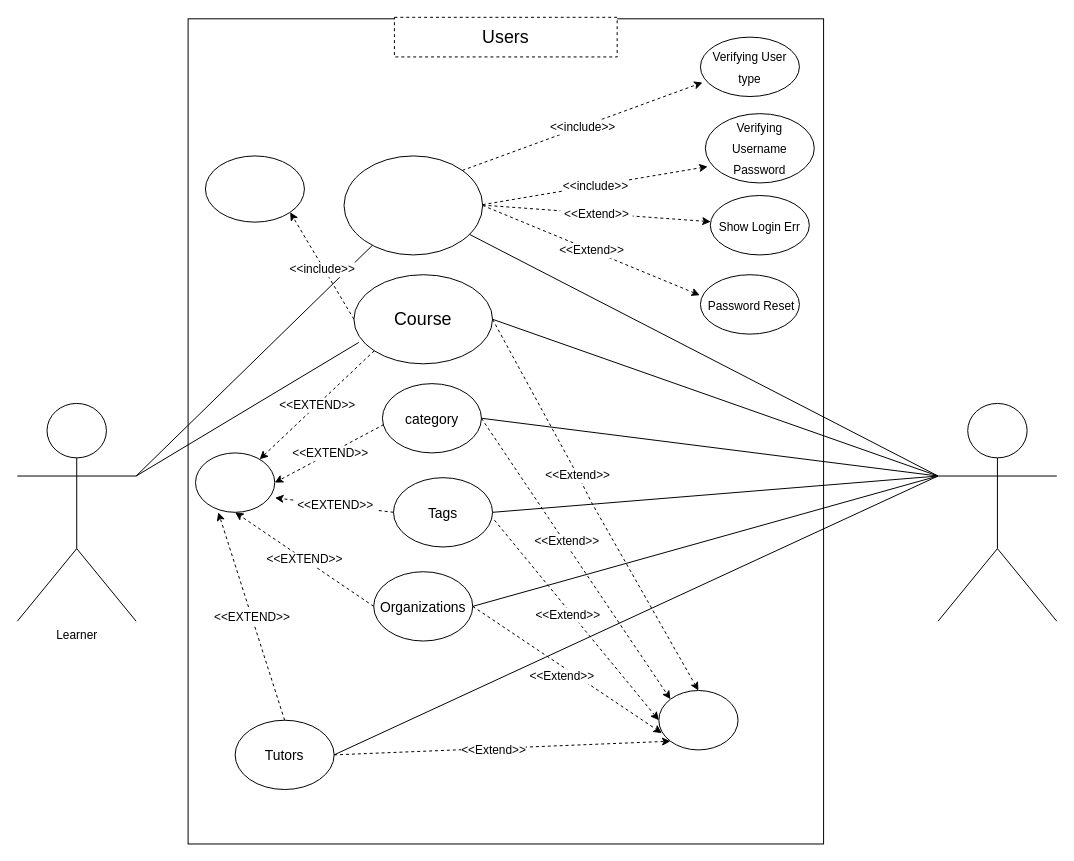
Image size: 1074x861. Some labels were removed from this diagram. The shapes that lost their labels are listed below. From the top down, each one's box as (x1, y1, x2, y2) in pixels, then its label:
(204, 155, 304, 222): Course Duration
(343, 155, 483, 255): Login
(195, 452, 275, 512): Edit
(937, 402, 1057, 621): Admin
(658, 690, 738, 750): Delete
